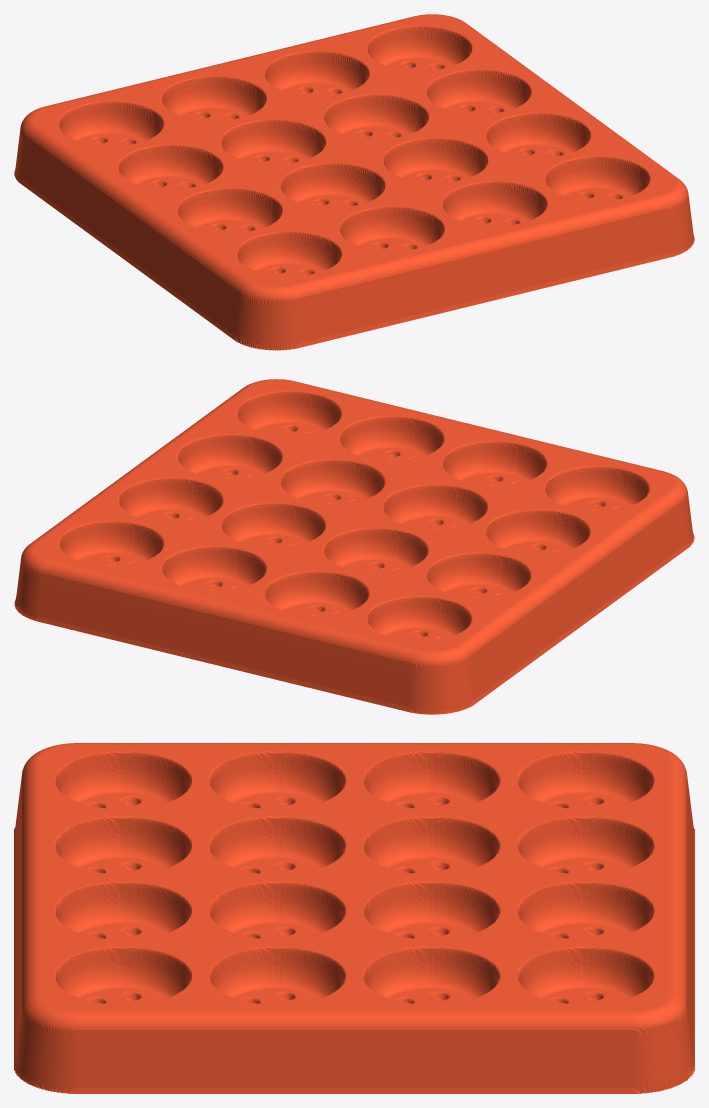
File: mold.glb
3 renders of one model, top to bottom at view 1: azimuth 30°, elevation 25°; view 2: azimuth 150°, elevation 25°; view 3: azimuth 270°, elevation 25°, orthographic. The views are drawn at different scales.
Parts seen in each view (by area): view 1: geometry_0; view 2: geometry_0; view 3: geometry_0.
Part boxes in pixels (x1=…): geometry_0: x1=14, y1=14, x2=694, y2=350; geometry_0: x1=14, y1=379, x2=694, y2=714; geometry_0: x1=14, y1=743, x2=694, y2=1093.
Size of the model in its own units: 0.0972 by 0.0114 by 0.0972.
